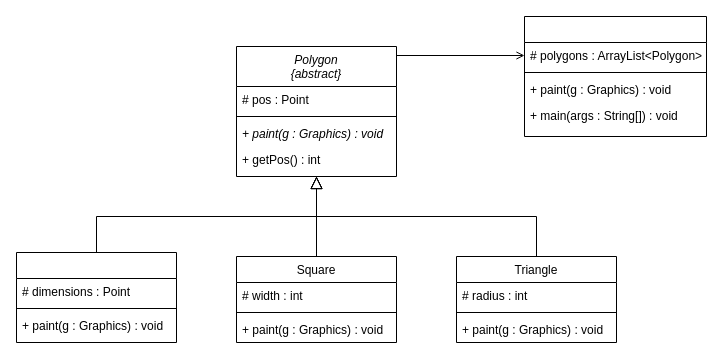
Image size: 723x359. Some labels were removed from this diagram. The box of each missing label's shape, as (x1, y1, x2, y2) in pixels:
DrawPolygons: (524, 16, 706, 136)
Rectangle: (16, 252, 176, 342)
